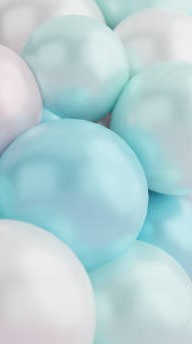Balloon: (1, 119, 149, 267), (1, 218, 93, 344), (25, 14, 128, 119), (114, 60, 192, 196), (92, 239, 192, 344)
